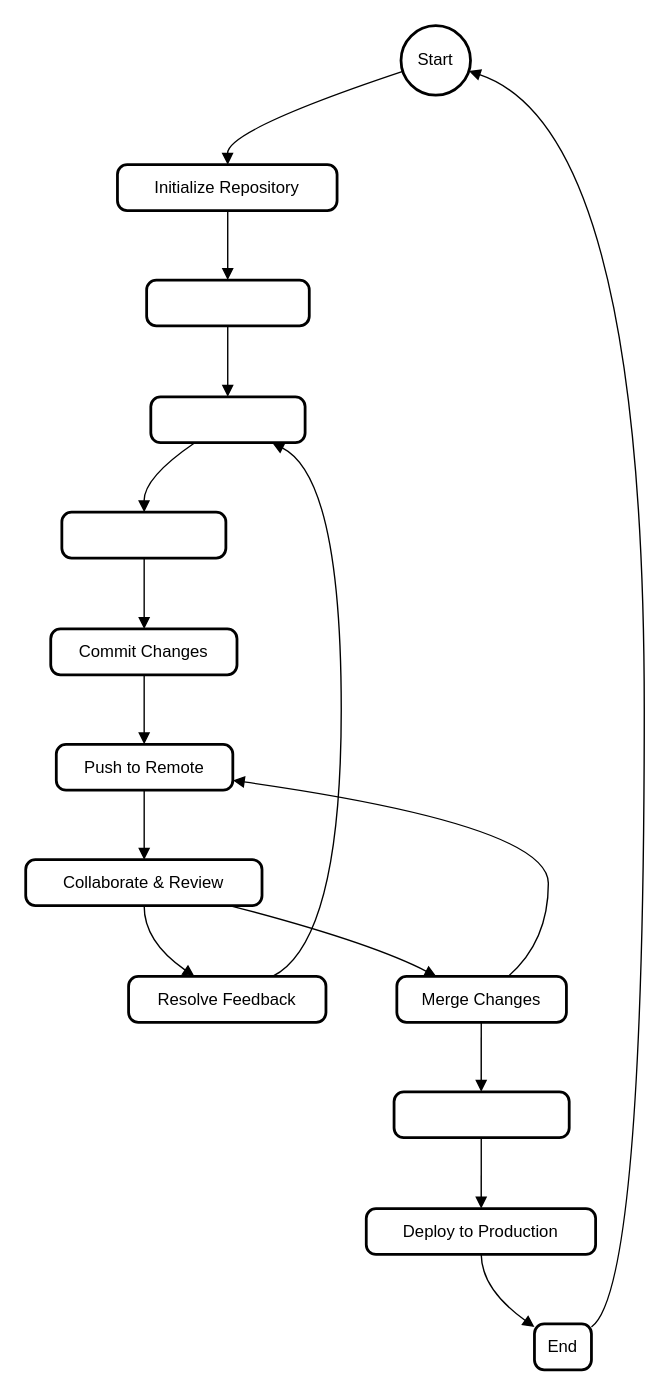
The diagram is 669 pixels wide and 1394 high, and some of its shapes have lost their labels. Here are the shapes that lost their labels. From the top down, the box of each, then its label:
(145, 278, 310, 327): Create Branch
(149, 395, 306, 443): Work on Files
(60, 510, 227, 559): Stage Changes
(392, 1090, 570, 1138): Release Version
